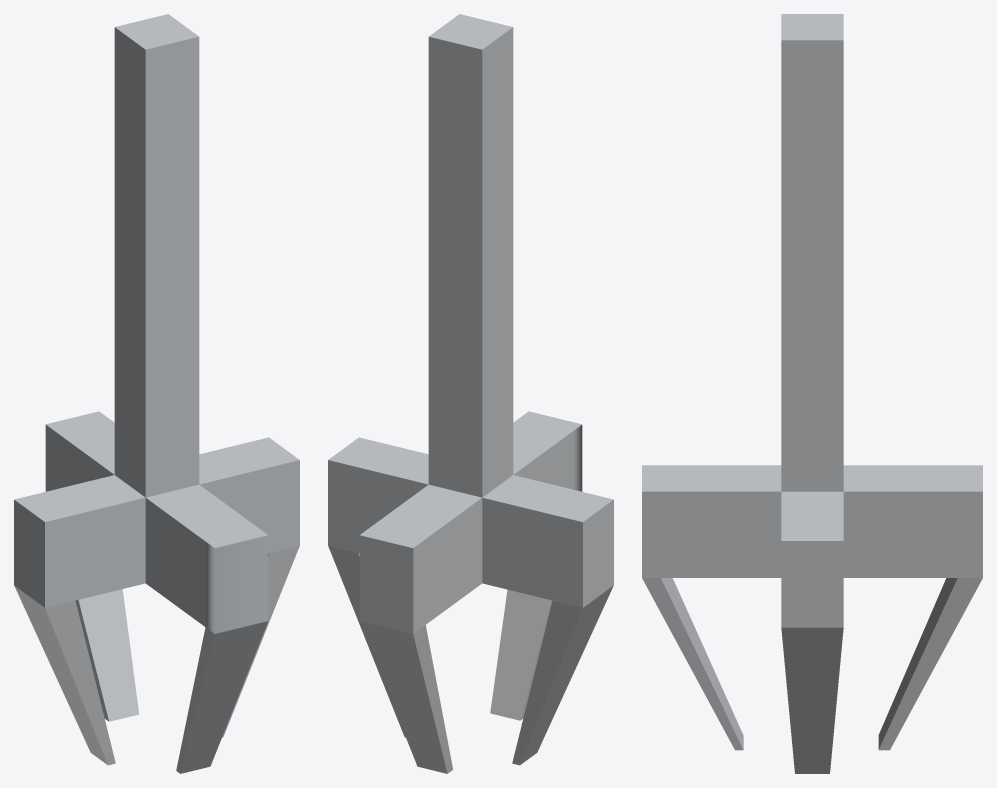
The model's file is Whisking Claw.fbx.
3 renders of one model, left to right at view 1: azimuth 30°, elevation 25°; view 2: azimuth 150°, elevation 25°; view 3: azimuth 270°, elevation 25°, orthographic.
Visible parts, largest first — view 1: Whisk_Claw; view 2: Whisk_Claw; view 3: Whisk_Claw.
Boxes of the visible parts, x1,y1,x2,y2 form: Whisk_Claw: [14, 14, 299, 773]; Whisk_Claw: [328, 14, 613, 773]; Whisk_Claw: [642, 14, 982, 773].
Size of the model in its own units: 1.06 by 2.85 by 1.22.
Materials: 1 (1 with a texture image).
